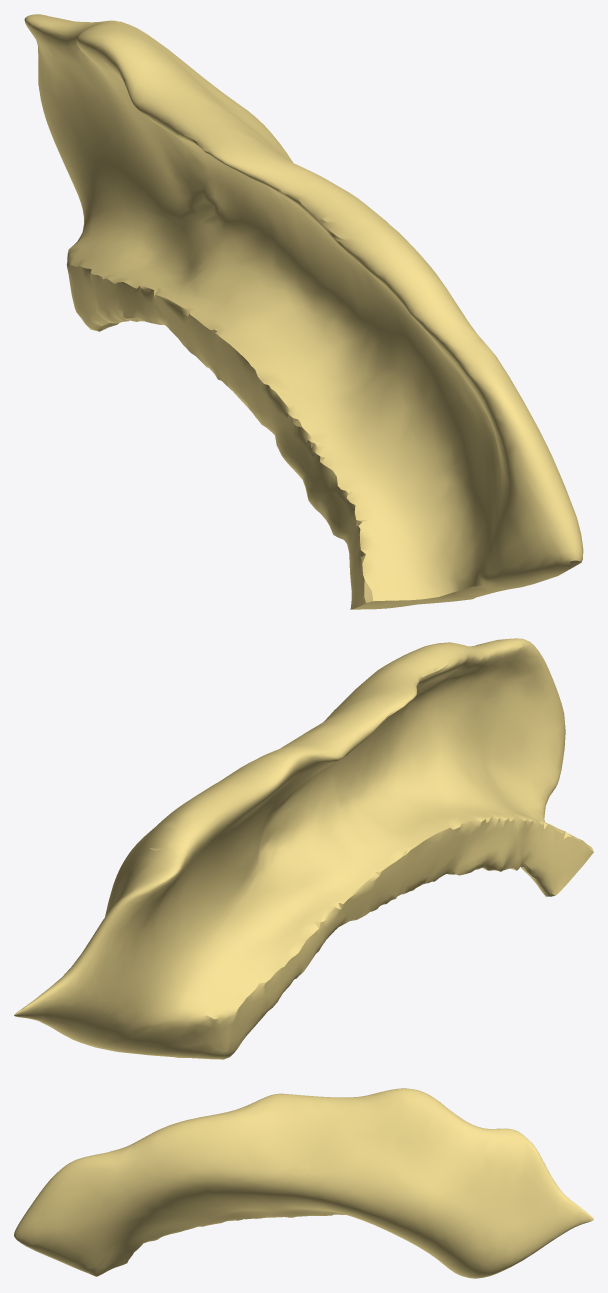
Rendered from fma77693-l_mm3349.glb.
3 renders of one model, top to bottom at view 1: azimuth 30°, elevation 25°; view 2: azimuth 150°, elevation 25°; view 3: azimuth 270°, elevation 25°, orthographic. The views are drawn at different scales.
Visible parts, largest first — view 1: FMA77693-L_MM3349; view 2: FMA77693-L_MM3349; view 3: FMA77693-L_MM3349.
Part boxes in pixels (x1,y1,x2,y2): FMA77693-L_MM3349: (24,14,583,609); FMA77693-L_MM3349: (14,638,593,1059); FMA77693-L_MM3349: (14,1088,593,1278).
Bounding box in the file's own units: 0.0228 × 0.0352 × 0.1023.
